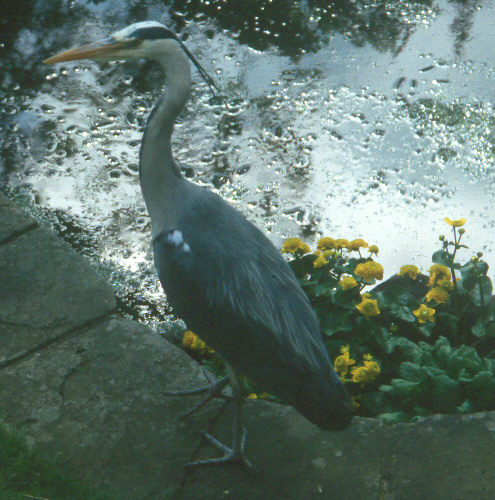heron: (37, 18, 366, 486)
